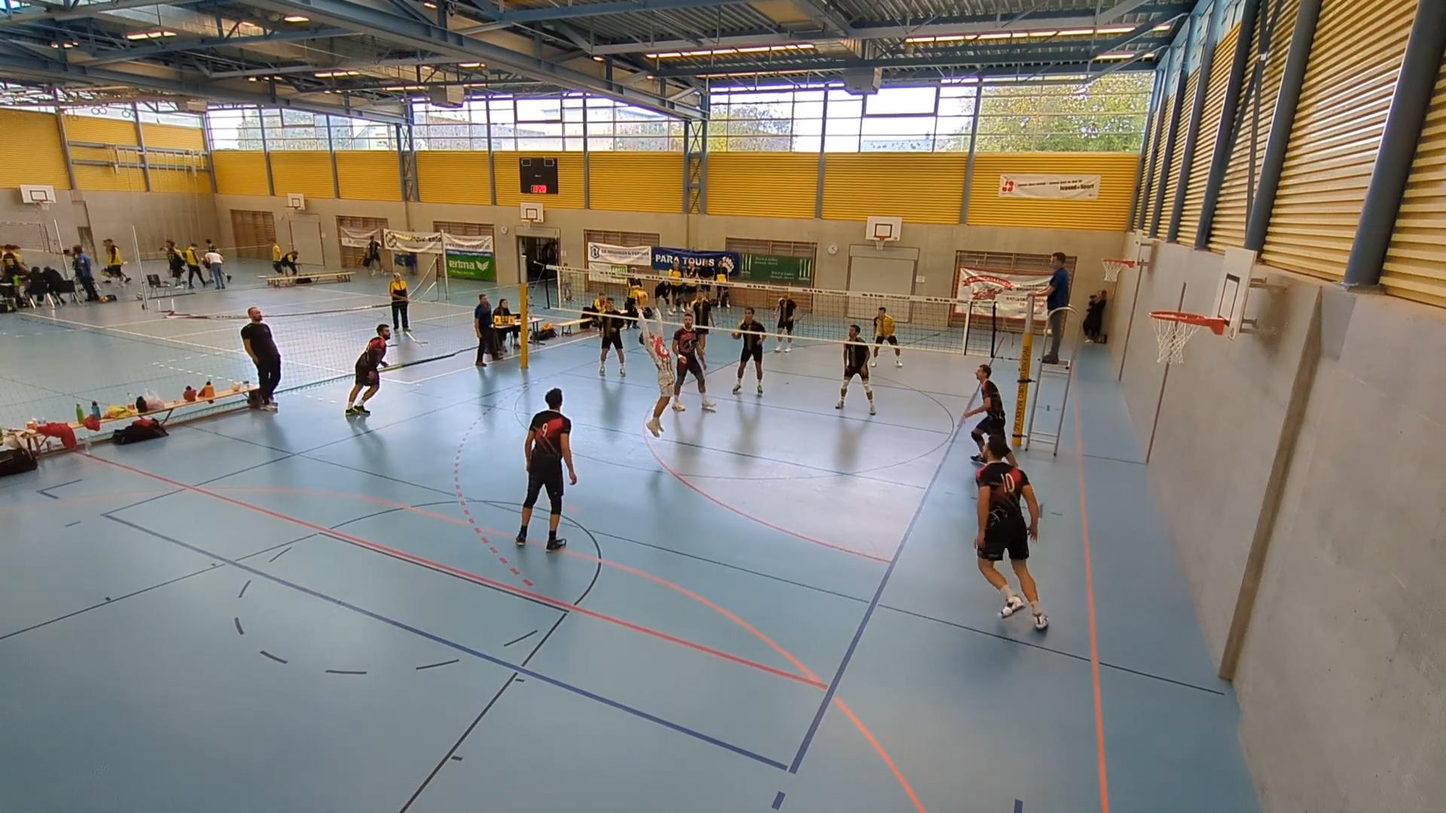alzata: (632, 301, 677, 440)
